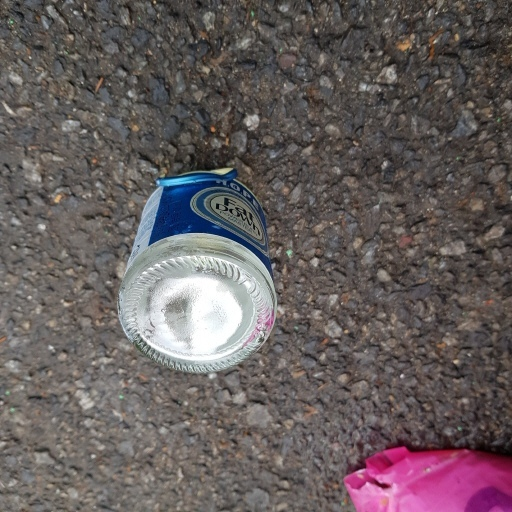Glass_4: (112, 155, 285, 378)
